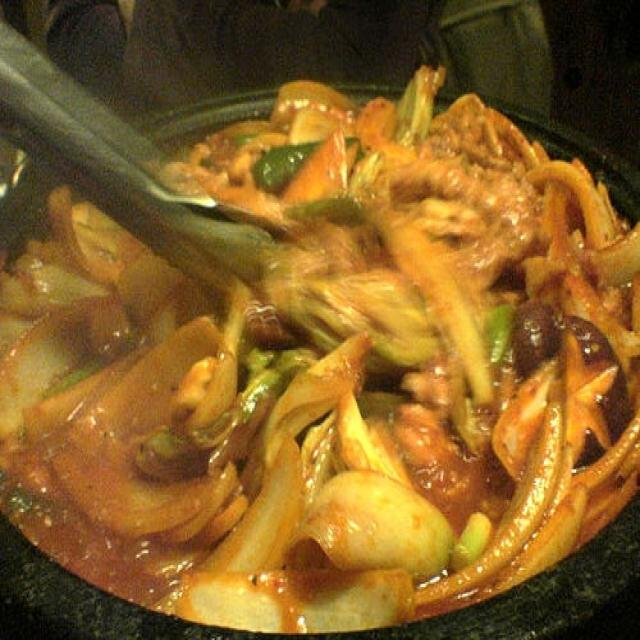鸡肉料理 含炸鸡: (5, 36, 635, 626)
